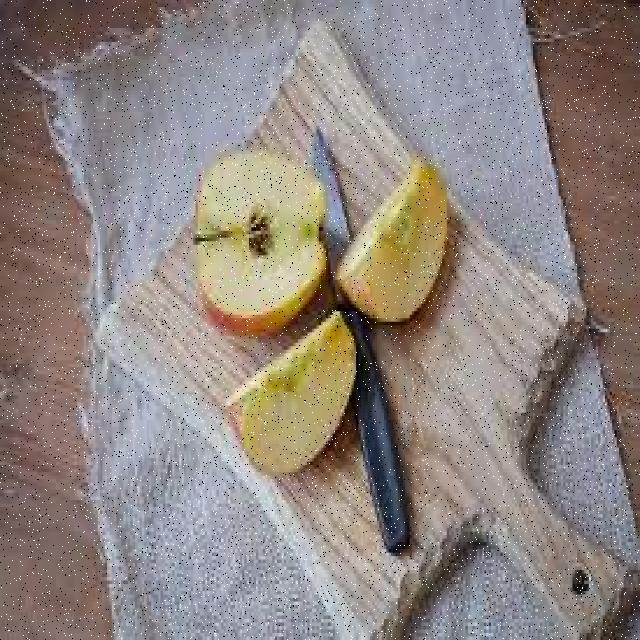Apple: (217, 316, 360, 479), (194, 159, 328, 318), (339, 164, 447, 317)
